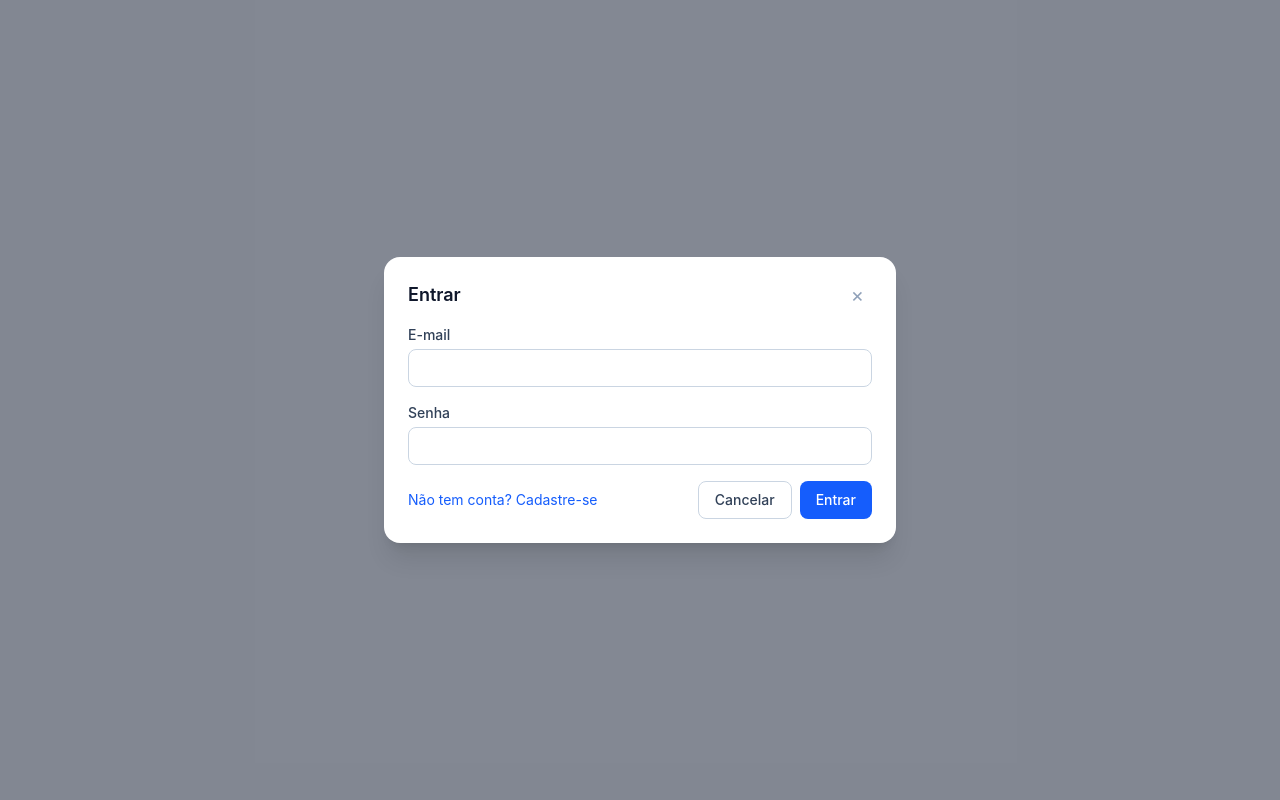
Scenario: AuthModal › alterna para cadastro e mostra o campo Nome
This screenshot has width=1280, height=800.
Expected: the field labelled "Nome" is not shown
Click the button "Não tem conta? Cadastre-se": click(503, 500) [408, 490, 598, 510]
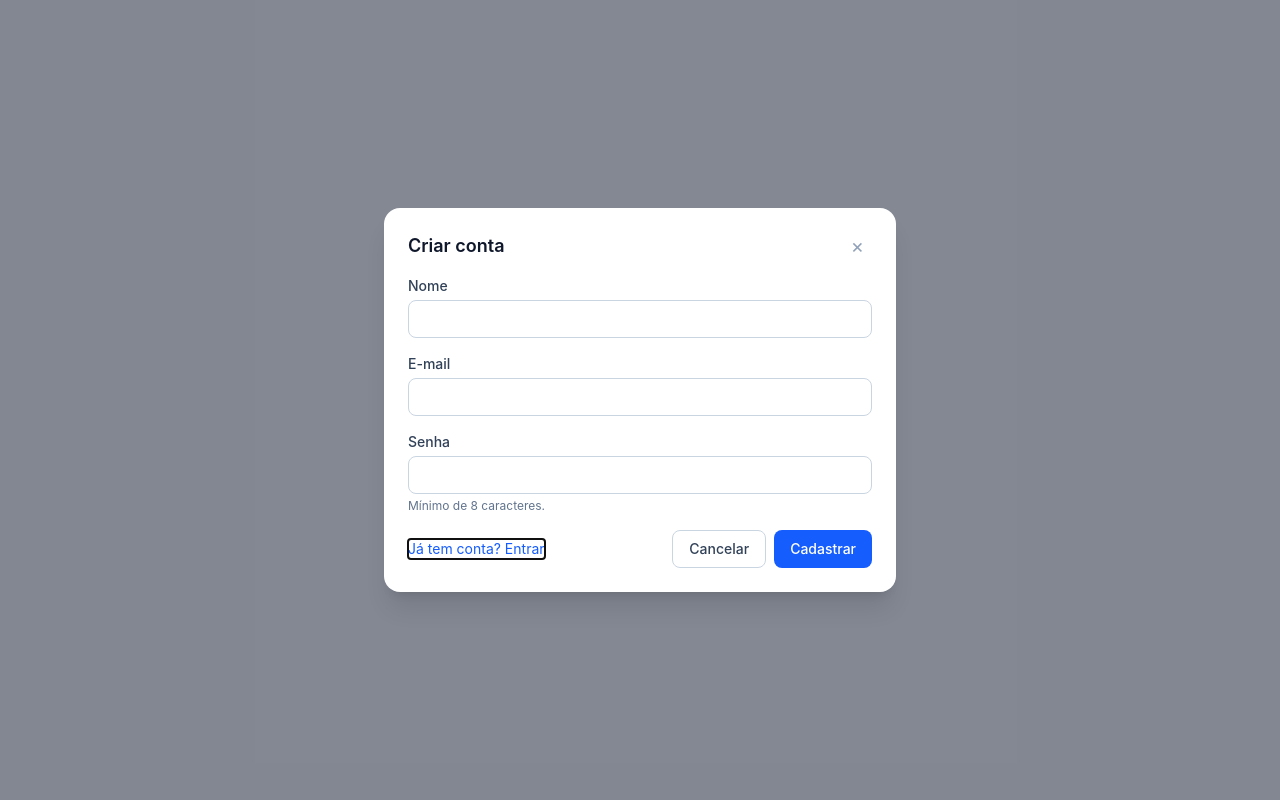
Expected: the field labelled "Nome" is shown, [408, 300, 872, 338]
